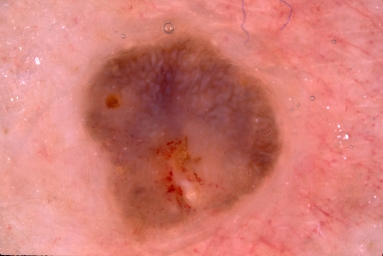seborrheic keratosis: (73, 28, 286, 244)
